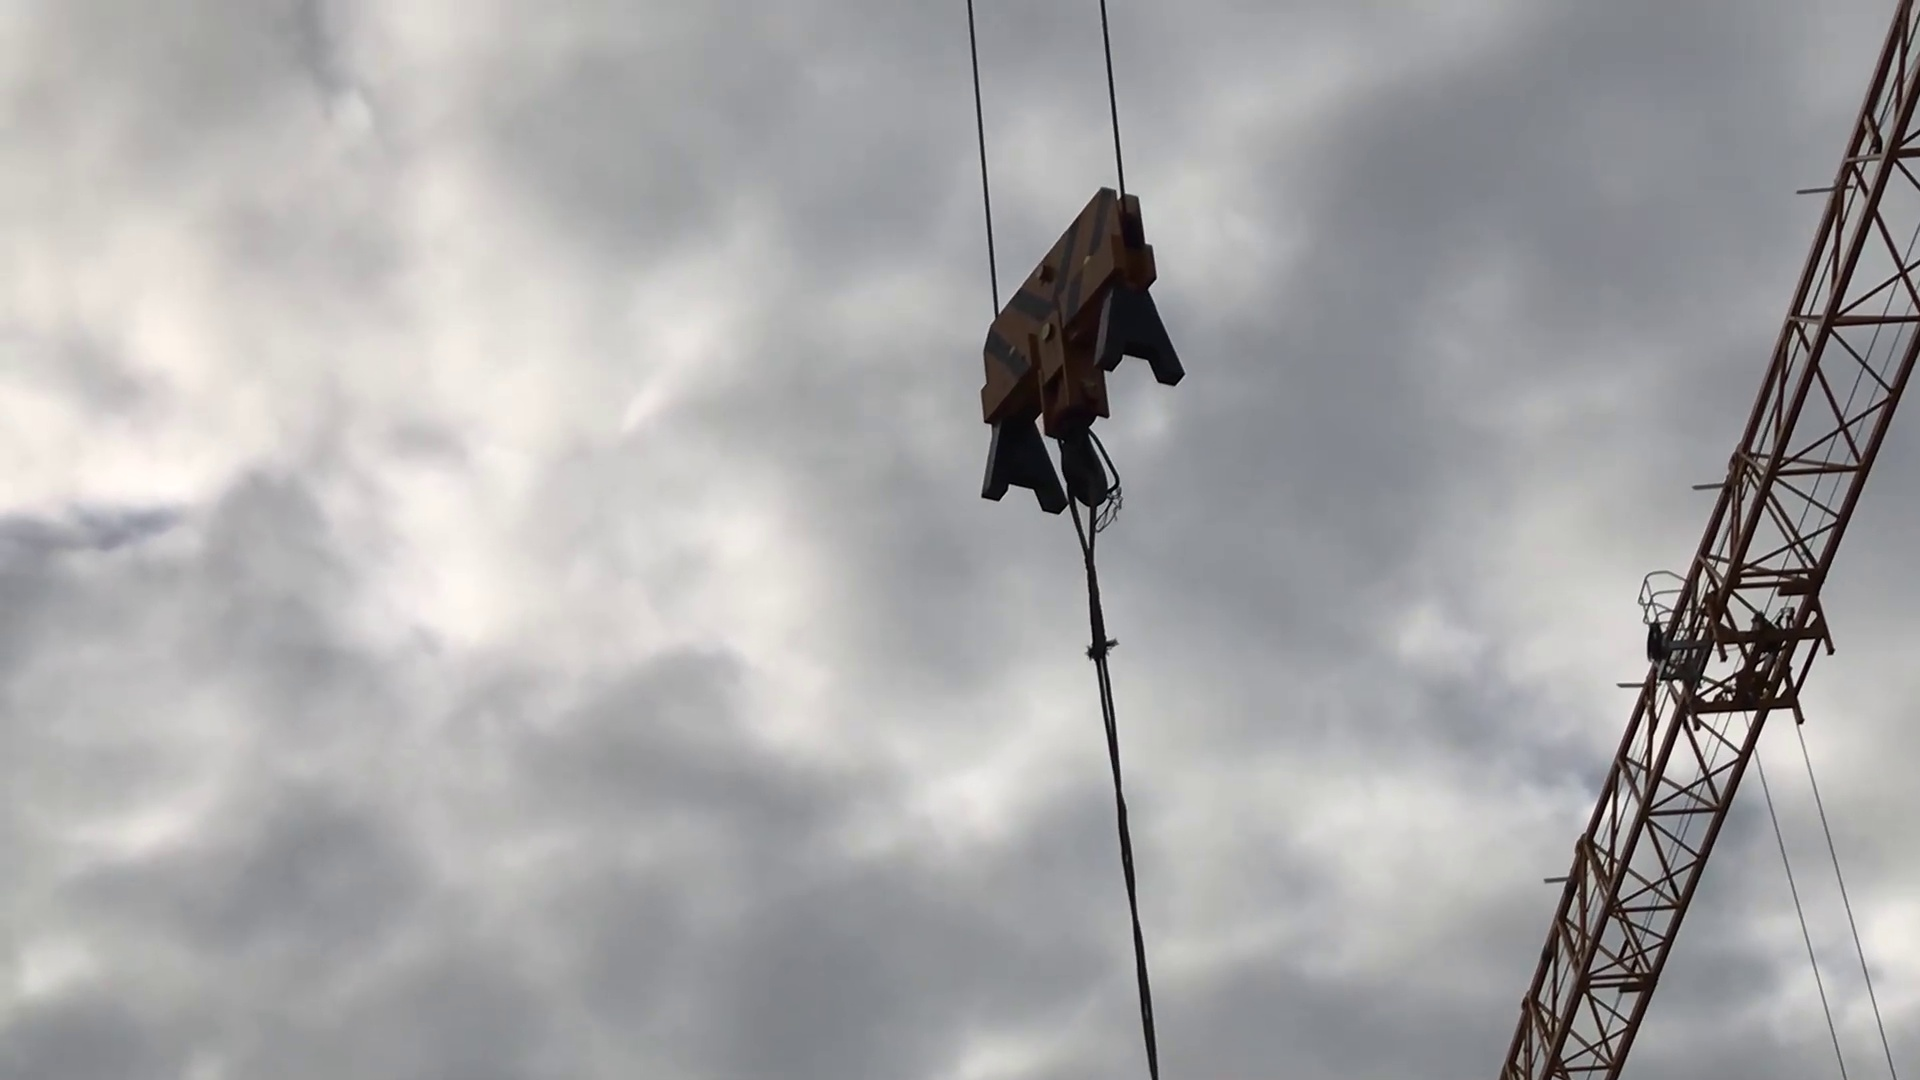hook: (969, 175, 1193, 524)
